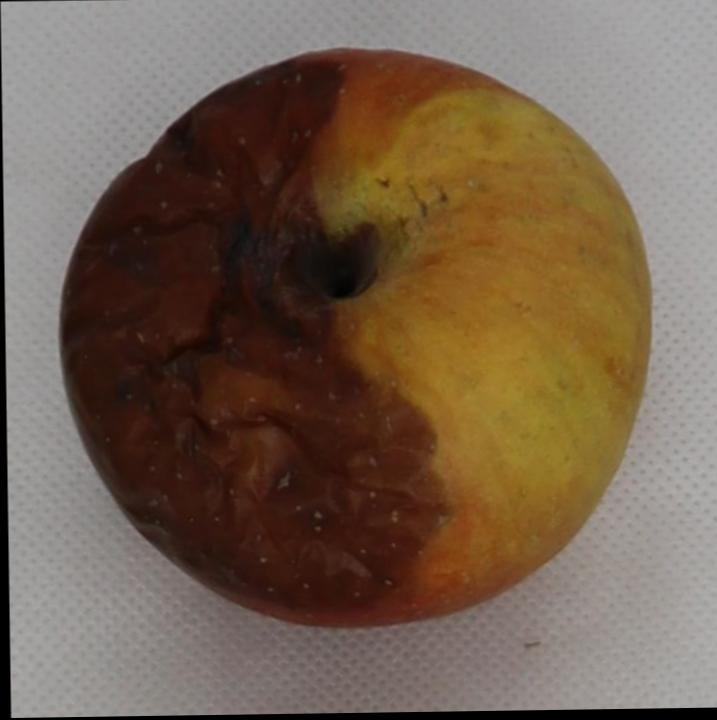apple: (59, 49, 647, 625)
rot_mold_decay: (60, 57, 445, 624)
